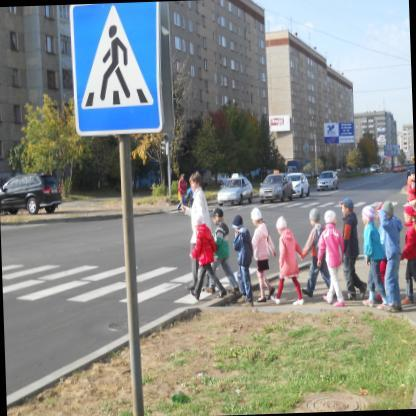road_sign: (71, 3, 171, 135)
